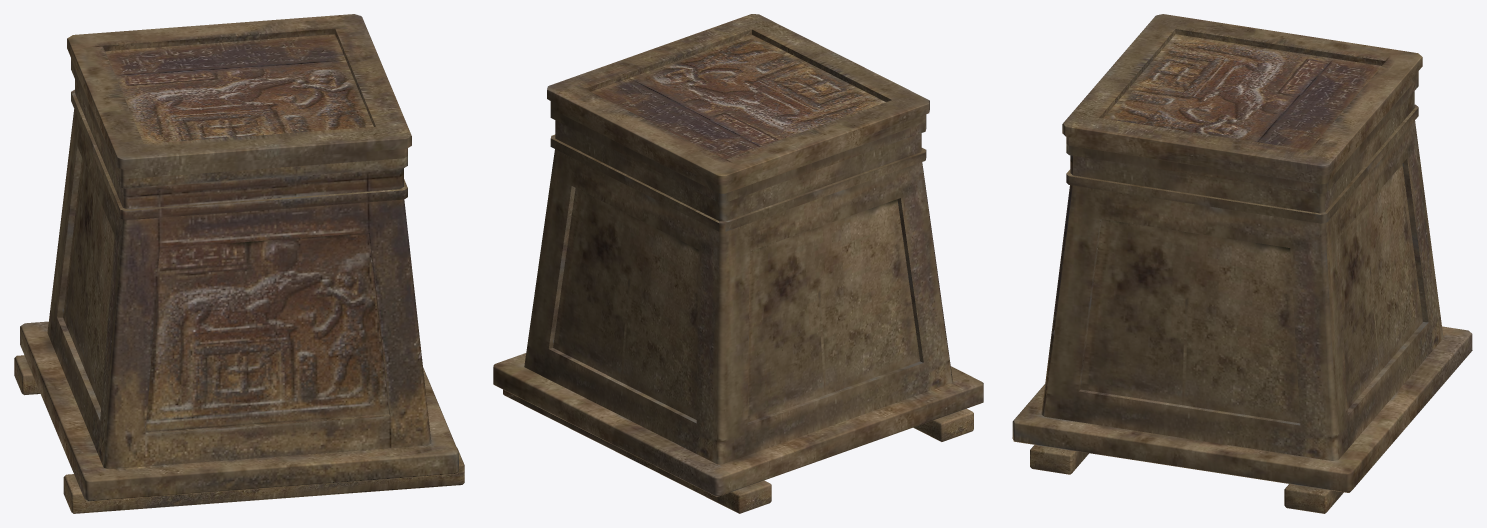
The model's file is pharaoh chestt.fbx.
3 views of the same model, side by side, from view 1: azimuth 30°, elevation 25°; view 2: azimuth 150°, elevation 25°; view 3: azimuth 270°, elevation 25° (orthographic). The views are drawn at different scales.
Parts seen in each view (by area): view 1: Container, lid, foot_front, foot_back; view 2: Container, lid, foot_back, foot_front; view 3: Container, lid, foot_back, foot_front.
Part boxes in pixels (x1,y1,x2,y2): Container: (20, 60, 458, 501); lid: (67, 14, 411, 178); foot_front: (63, 448, 464, 513); foot_back: (14, 355, 40, 395); Container: (493, 109, 983, 496); lid: (547, 14, 929, 193); foot_back: (503, 389, 771, 513); foot_front: (913, 408, 973, 441); Container: (1012, 77, 1472, 492); lid: (1062, 14, 1422, 184); foot_back: (1284, 484, 1343, 513); foot_front: (1030, 445, 1088, 474).
Size of the model in its own units: 103 by 80 by 102.
Materials: 1 (1 with a texture image).
